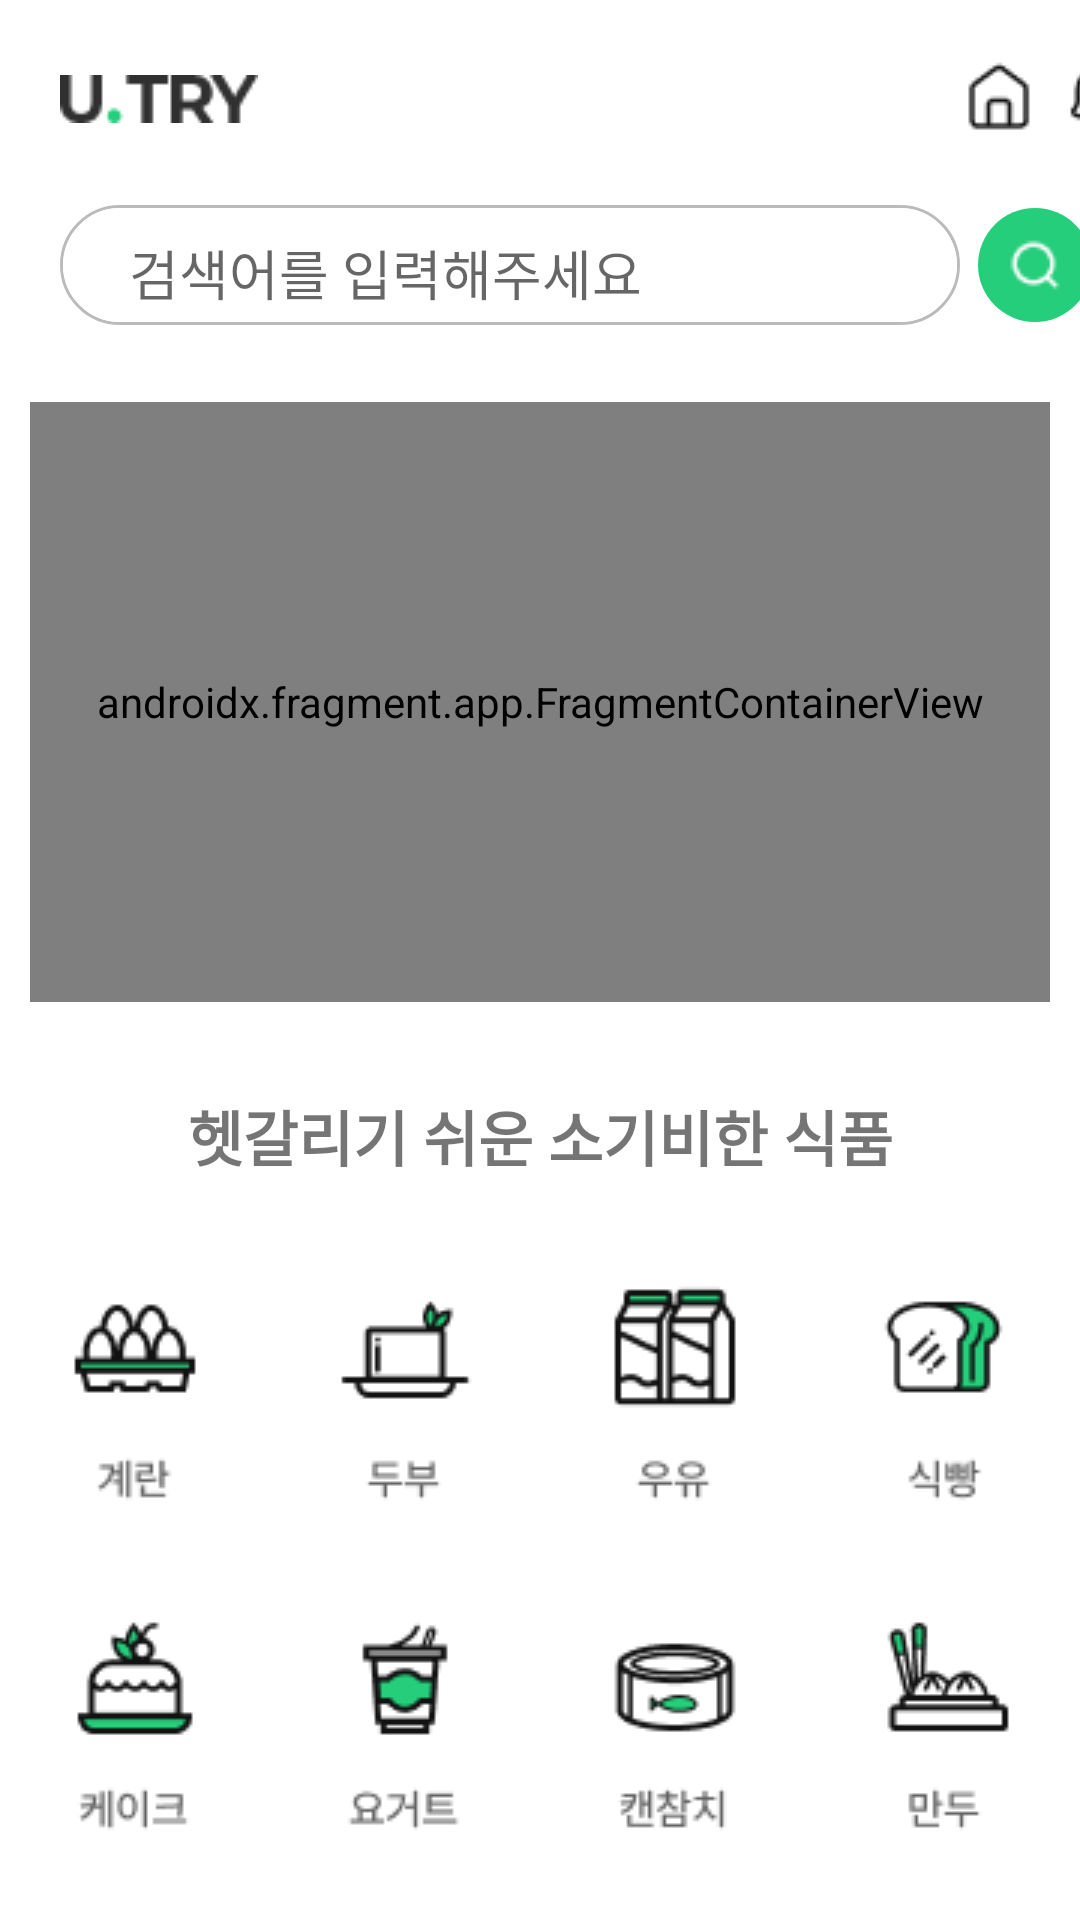

Icons on this 1080px×1920px Android screen, each with its box as (x1, y1, x2, y2):
home: (968, 63, 1030, 130)
